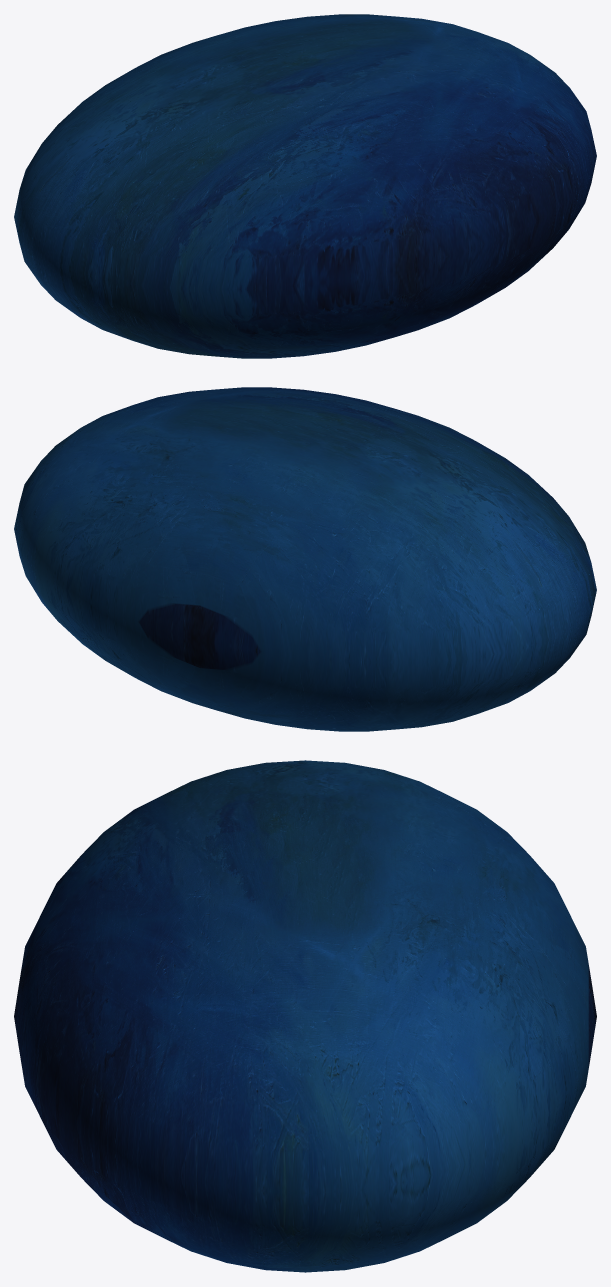
The model's file is marine1.FBX.
The picture shows the model from 3 angles, top to bottom: view 1: azimuth 30°, elevation 25°; view 2: azimuth 150°, elevation 25°; view 3: azimuth 270°, elevation 25°; orthographic projection. The views are drawn at different scales.
Parts seen in each view (by area): view 1: Sphère003; view 2: Sphère003; view 3: Sphère003.
Boxes of the visible parts, box(x1,y1,x2,y2) form: Sphère003: box(14, 14, 596, 358); Sphère003: box(14, 387, 596, 731); Sphère003: box(14, 760, 596, 1272).
Bounding box in the file's own units: 6.73 × 3.28 × 4.68.
Materials: 1 (1 with a texture image).
